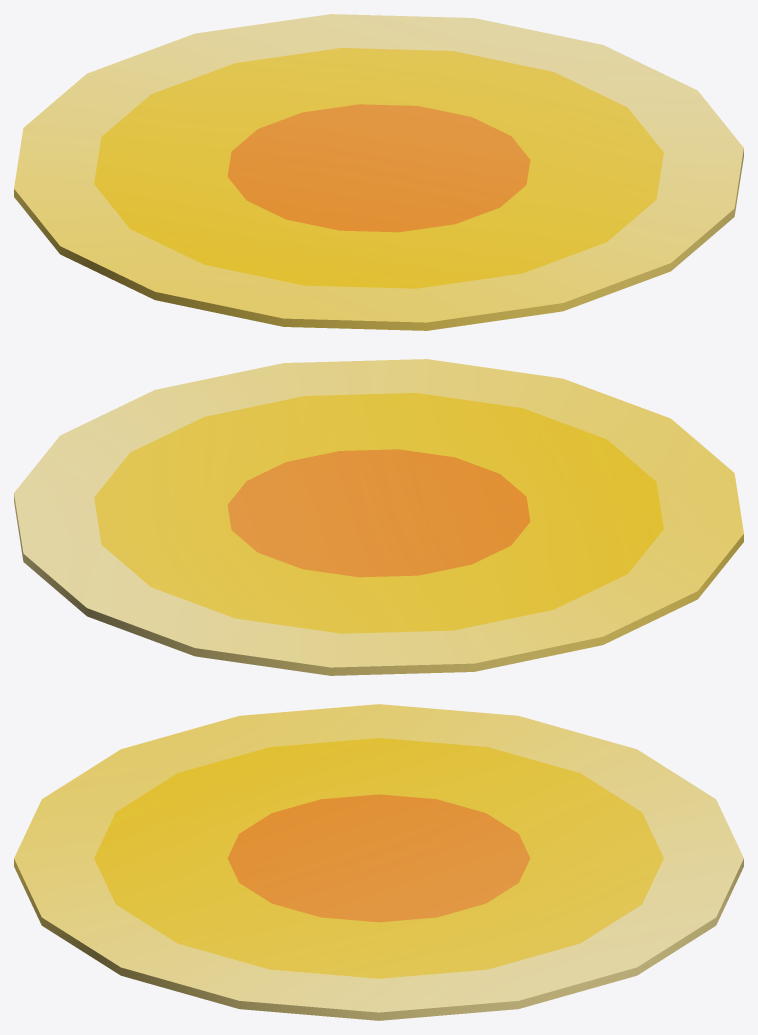
File: Rug_Round_default.fbx
The picture shows the model from 3 angles, top to bottom: view 1: azimuth 30°, elevation 25°; view 2: azimuth 150°, elevation 25°; view 3: azimuth 270°, elevation 25°; orthographic projection.
Parts seen in each view (by area): view 1: Rug_Round.default; view 2: Rug_Round.default; view 3: Rug_Round.default.
Boxes of the visible parts, box(x1,y1,x2,y2) form: Rug_Round.default: box(14, 14, 743, 330); Rug_Round.default: box(14, 359, 743, 675); Rug_Round.default: box(14, 704, 743, 1020).
Bounding box in the file's own units: 400 × 5 × 400.
